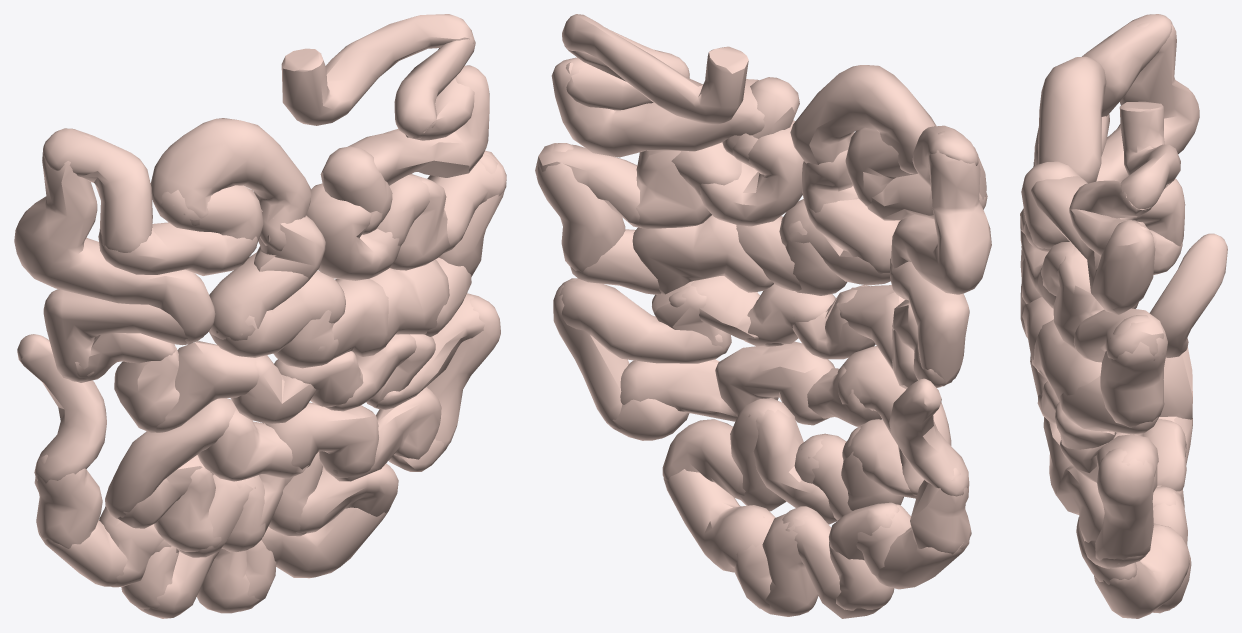
The model's file is ingichka.glb.
3 renders of one model, left to right at view 1: azimuth 30°, elevation 25°; view 2: azimuth 150°, elevation 25°; view 3: azimuth 270°, elevation 25°, orthographic.
Visible parts, largest first — view 1: ingichka; view 2: ingichka; view 3: ingichka.
Part boxes in pixels (x1,y1,x2,y2): ingichka: (14, 14, 506, 618); ingichka: (535, 14, 991, 618); ingichka: (1020, 14, 1227, 618).
Size of the model in its own units: 0.1937 by 0.2184 by 0.0762.
